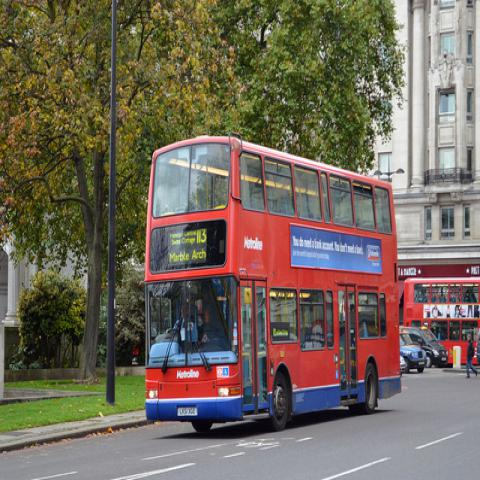bus: (145, 131, 402, 435), (404, 277, 480, 364)
car: (399, 325, 451, 368), (399, 328, 427, 374), (400, 356, 405, 377)
